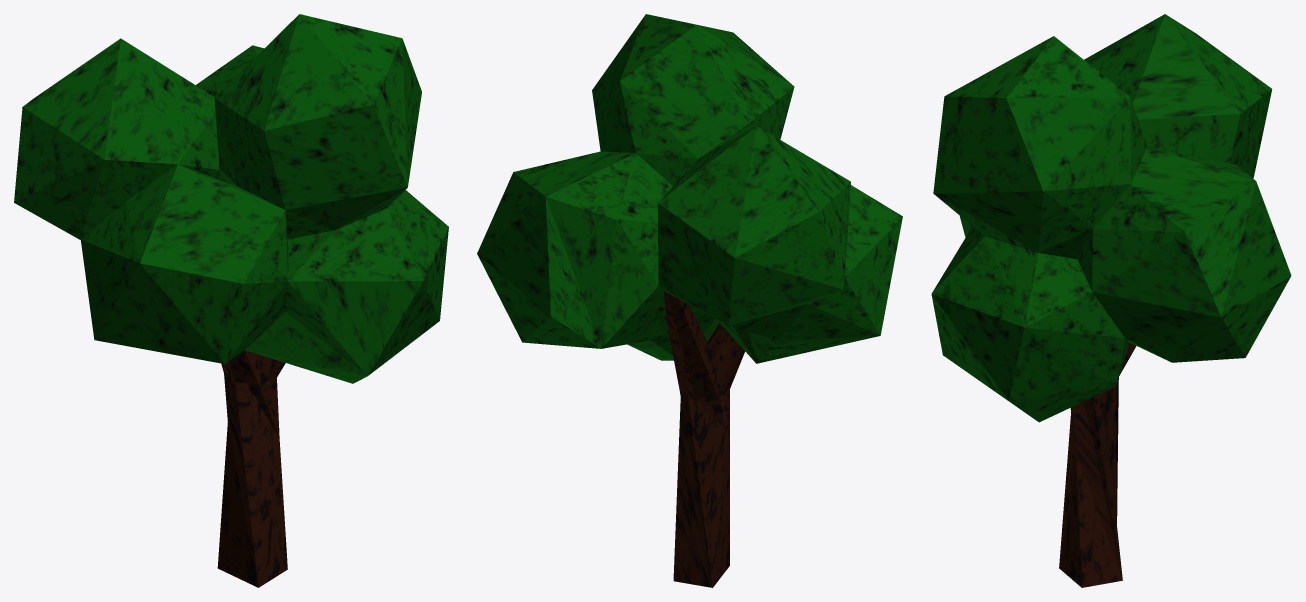
File: TreeFar.fbx
The picture shows the model from 3 angles, left to right: view 1: azimuth 30°, elevation 25°; view 2: azimuth 150°, elevation 25°; view 3: azimuth 270°, elevation 25°; orthographic projection. The views are drawn at different scales.
Visible parts, largest first — view 1: Leaves, Trunk; view 2: Leaves, Trunk; view 3: Leaves, Trunk.
Boxes of the visible parts, <box> form: Leaves: <box>14,14,448,383</box>; Trunk: <box>217,350,287,587</box>; Leaves: <box>477,14,902,363</box>; Trunk: <box>664,291,744,587</box>; Leaves: <box>931,14,1291,422</box>; Trunk: <box>1059,343,1136,587</box>.
Bounding box in the file's own units: 387 × 567 × 336.
2 materials, 2 textured.
